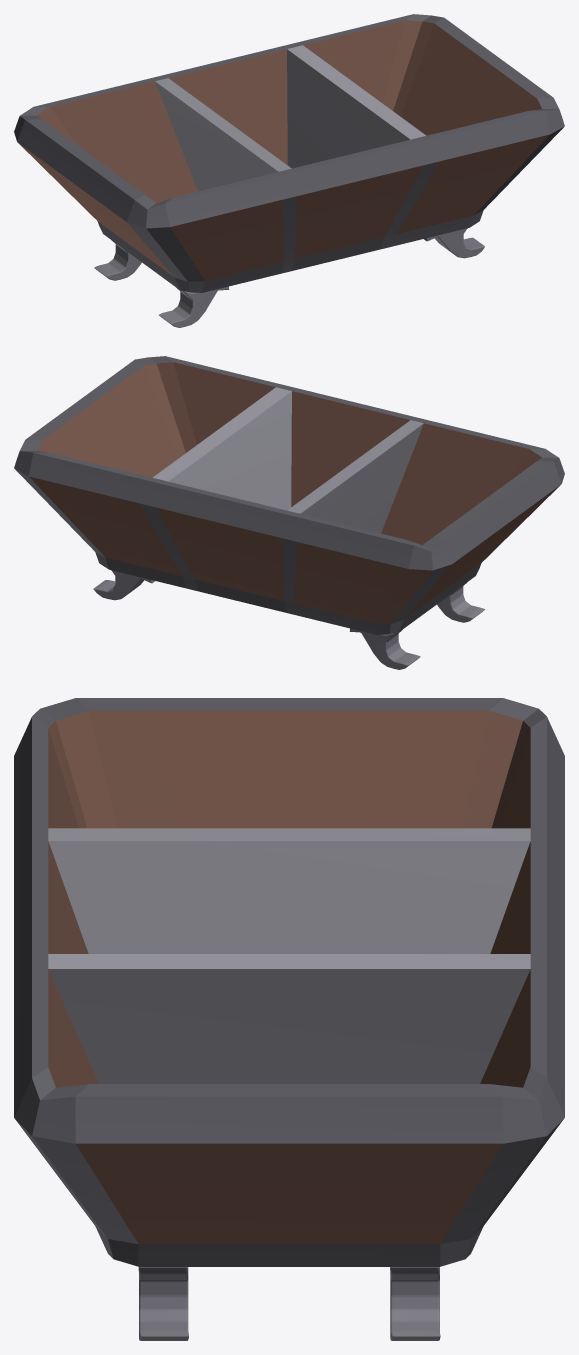
File: VasilhaMolho_Lab_Lopo.fbx
3 renders of one model, top to bottom at view 1: azimuth 30°, elevation 25°; view 2: azimuth 150°, elevation 25°; view 3: azimuth 270°, elevation 25°, orthographic. The views are drawn at different scales.
Parts seen in each view (by area): view 1: VasilhaMolho_Lab_Lopo; view 2: VasilhaMolho_Lab_Lopo; view 3: VasilhaMolho_Lab_Lopo.
Part boxes in pixels (x1,y1,x2,y2): VasilhaMolho_Lab_Lopo: (14,14,564,327); VasilhaMolho_Lab_Lopo: (14,356,564,669); VasilhaMolho_Lab_Lopo: (14,698,564,1340).
Size of the model in its own units: 87.18 by 29.73 by 49.05.
